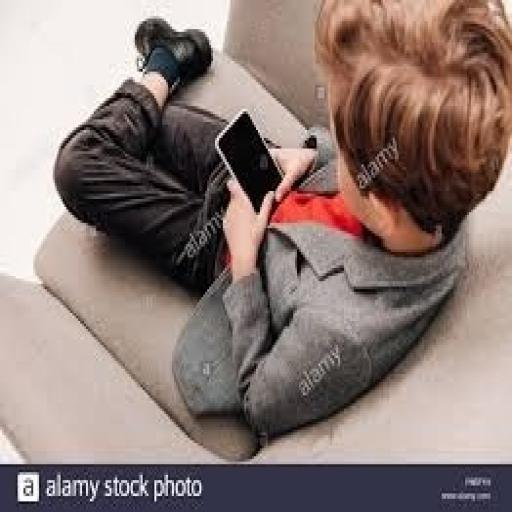texting: (49, 0, 510, 448)
